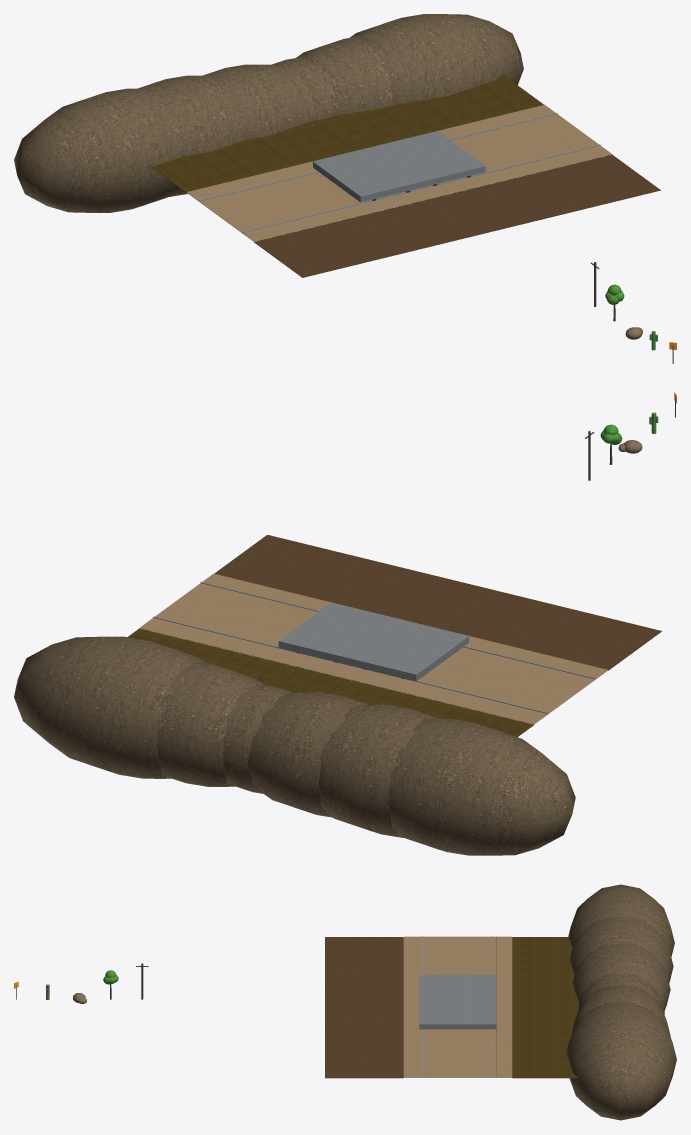
Rendered from ramen-luar.glb.
3 views of the same model, one above another, from view 1: azimuth 30°, elevation 25°; view 2: azimuth 150°, elevation 25°; view 3: azimuth 270°, elevation 25° (orthographic). The views are drawn at different scales.
Parts seen in each view (by area): view 1: statis; view 2: statis; view 3: statis.
Part boxes in pixels (x1,y1,x2,y2): statis: (14, 14, 660, 277); statis: (14, 535, 661, 855); statis: (325, 884, 676, 1120).
Bounding box in the file's own units: 59.55 × 13.25 × 84.24.
13 materials, 10 textured.
